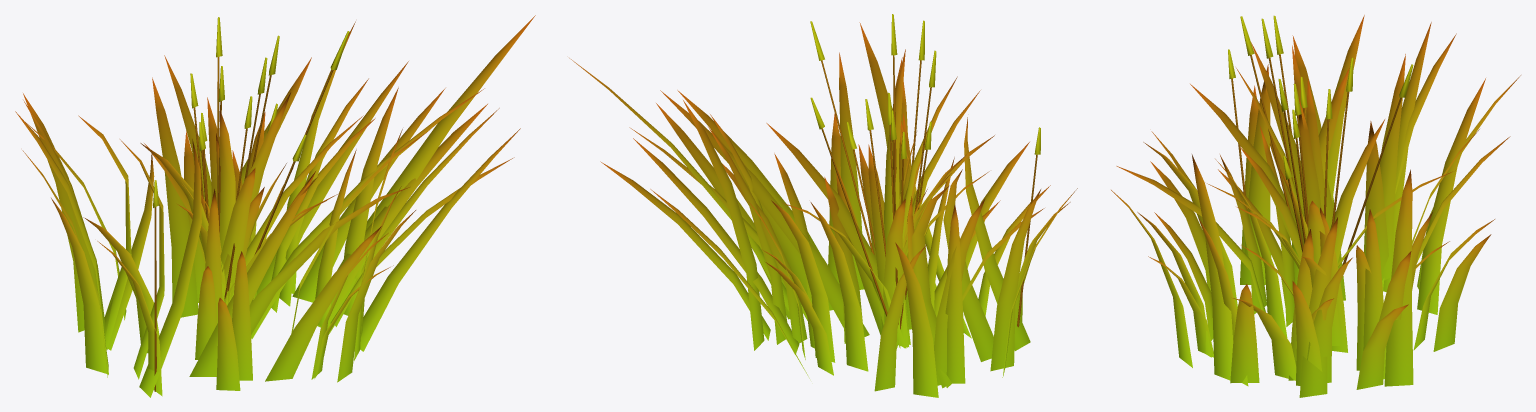
Rendered from sedge.glb.
3 views of the same model, side by side, from view 1: azimuth 30°, elevation 25°; view 2: azimuth 150°, elevation 25°; view 3: azimuth 270°, elevation 25° (orthographic). The views are drawn at different scales.
Parts seen in each view (by area): view 1: v1, v0, v3, v2; view 2: v0, v1, v3, v2; view 3: v1, v0, v3, v2.
Part boxes in pixels (x1,y1,x2,y2): v1: (78, 15, 535, 397); v0: (15, 21, 426, 382); v3: (97, 17, 363, 396); v2: (23, 55, 393, 390); v0: (683, 22, 1077, 397); v1: (569, 57, 1030, 388); v3: (766, 14, 1070, 348); v2: (708, 113, 1050, 391); v1: (1116, 54, 1491, 389); v0: (1111, 15, 1520, 397); v3: (1190, 15, 1455, 284); v2: (1137, 33, 1510, 379).
Bounding box in the file's own units: 19.04 × 11.36 × 12.89.
